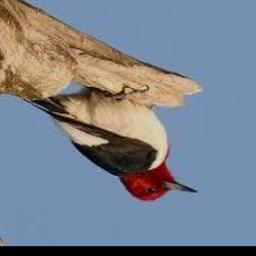Woodpecker: (30, 92, 197, 201)
